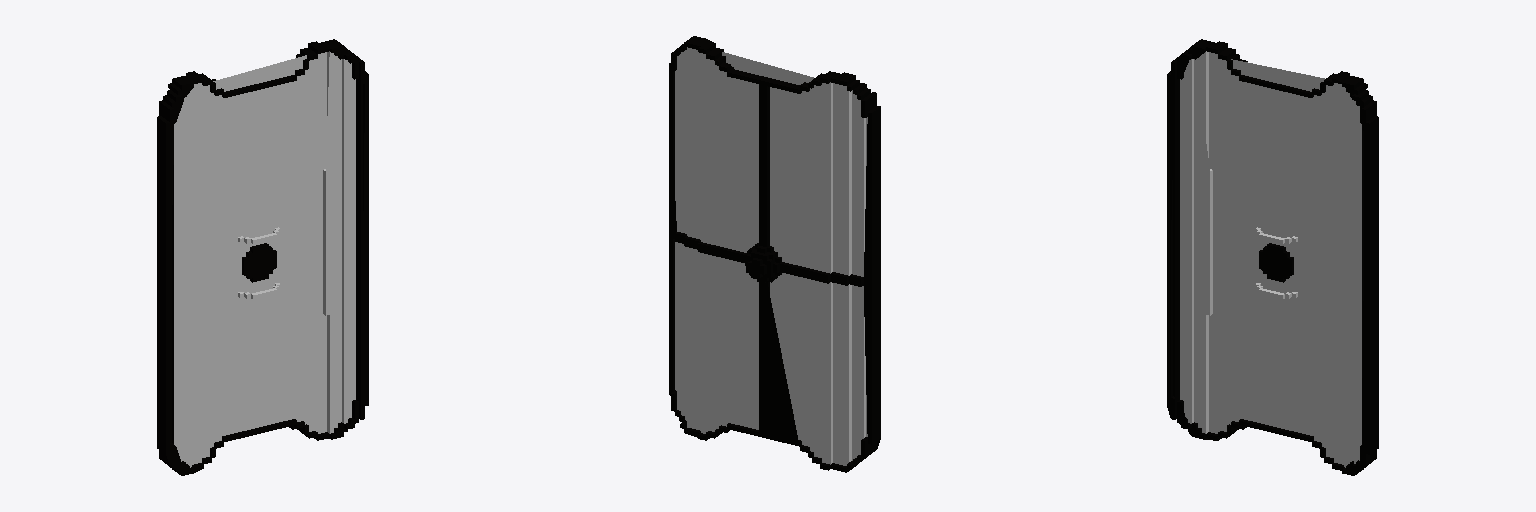
Rendered from Shield_Tower_Wooden_BrownDiamonds_Full.obj.
The picture shows the model from 3 angles: view 1: azimuth 30°, elevation 25°; view 2: azimuth 150°, elevation 25°; view 3: azimuth 330°, elevation 25°; orthographic projection.
Visible parts, largest first — view 1: Shield_Tower_Wooden_BrownDiamonds_Full; view 2: Shield_Tower_Wooden_BrownDiamonds_Full; view 3: Shield_Tower_Wooden_BrownDiamonds_Full.
Boxes of the visible parts, box(x1,y1,x2,y2) form: Shield_Tower_Wooden_BrownDiamonds_Full: box(157, 39, 368, 475); Shield_Tower_Wooden_BrownDiamonds_Full: box(669, 36, 880, 472); Shield_Tower_Wooden_BrownDiamonds_Full: box(1167, 39, 1378, 475).
Size of the model in its own units: 0.5 by 0.92 by 0.1.